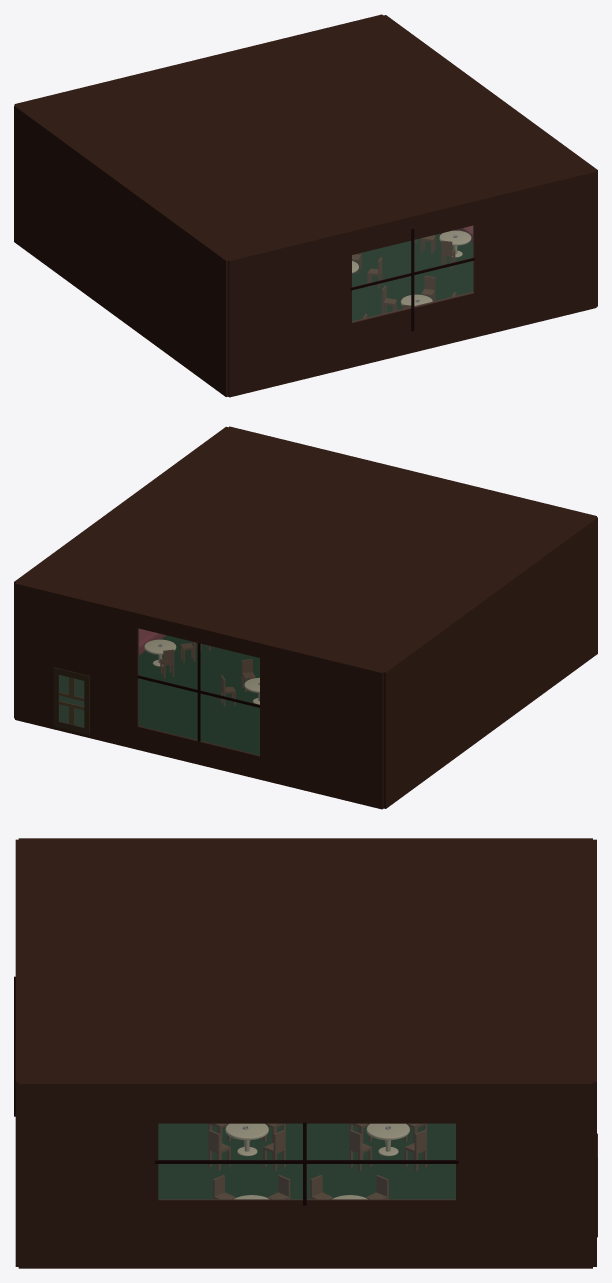
The model's file is seviye1sergi.fbx.
The picture shows the model from 3 angles, top to bottom: view 1: azimuth 30°, elevation 25°; view 2: azimuth 150°, elevation 25°; view 3: azimuth 270°, elevation 25°; orthographic projection. The views are drawn at different scales.
Visible parts, largest first — view 1: bina; view 2: bina, kapi; view 3: bina, masa1.007, masa1.008.
Boxes of the visible parts, x1,y1,x2,y2 form: bina: [14, 14, 597, 397]; bina: [14, 426, 597, 809]; kapi: [53, 667, 89, 735]; bina: [14, 838, 596, 1268]; masa1.007: [225, 1123, 268, 1156]; masa1.008: [366, 1123, 409, 1156].
Size of the model in its own units: 6279 by 2198 by 6299.
